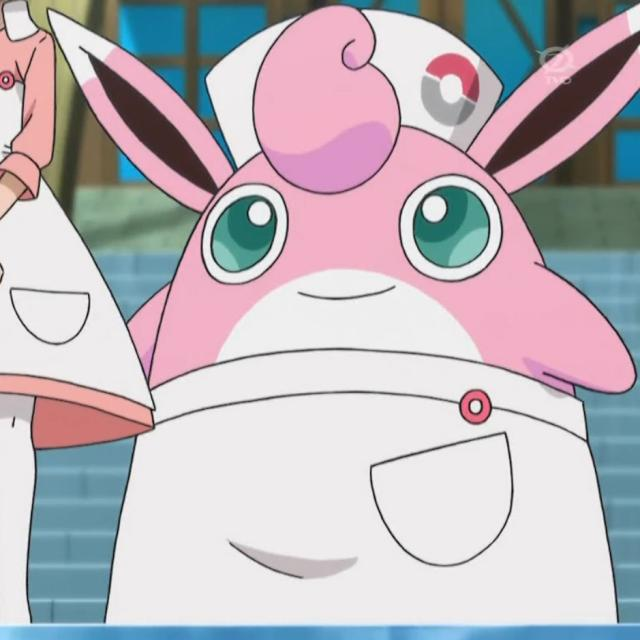Wigglytuff: (63, 0, 638, 638)
